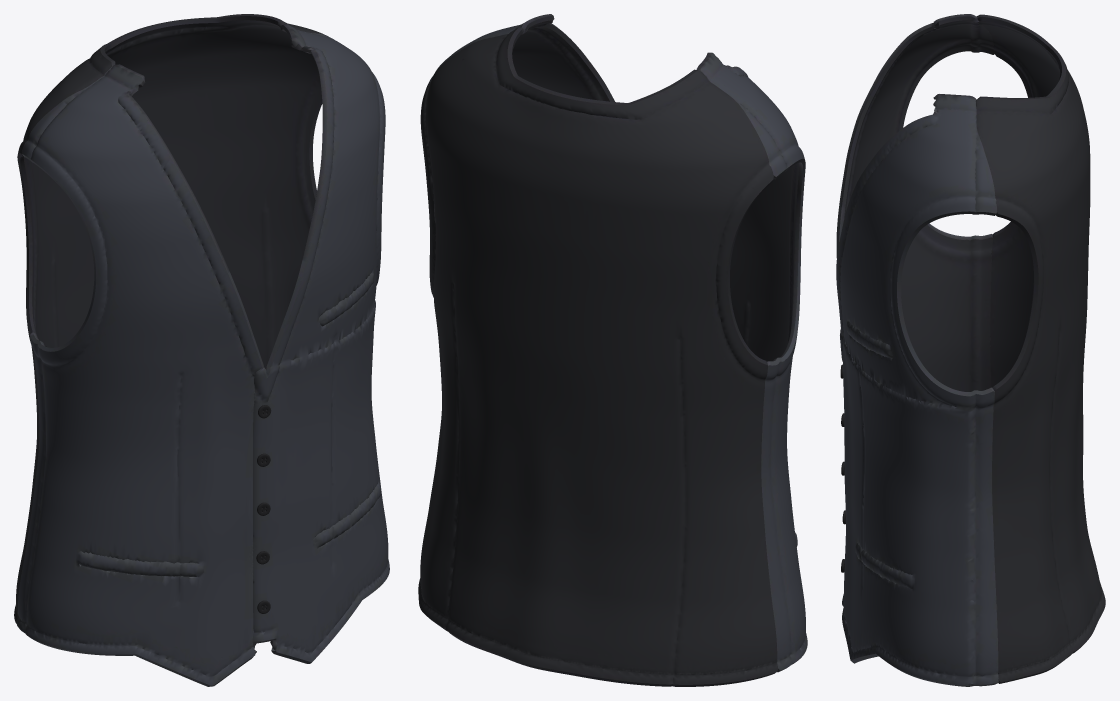
The model's file is 09_chaleco_vestir_pbr.glb.
3 renders of one model, left to right at view 1: azimuth 30°, elevation 25°; view 2: azimuth 150°, elevation 25°; view 3: azimuth 270°, elevation 25°, orthographic. The views are drawn at different scales.
Visible parts, largest first — view 1: Camiseta PBR, Botones; view 2: Camiseta PBR; view 3: Camiseta PBR.
Boxes of the visible parts, box(x1,y1,x2,y2) form: Camiseta PBR: box(14, 14, 389, 686); Botones: box(256, 405, 271, 613); Camiseta PBR: box(418, 14, 807, 686); Camiseta PBR: box(836, 14, 1105, 686).
Bounding box in the file's own units: 0.3963 × 0.6313 × 0.2639.
Materials: 2 (1 with a texture image).
